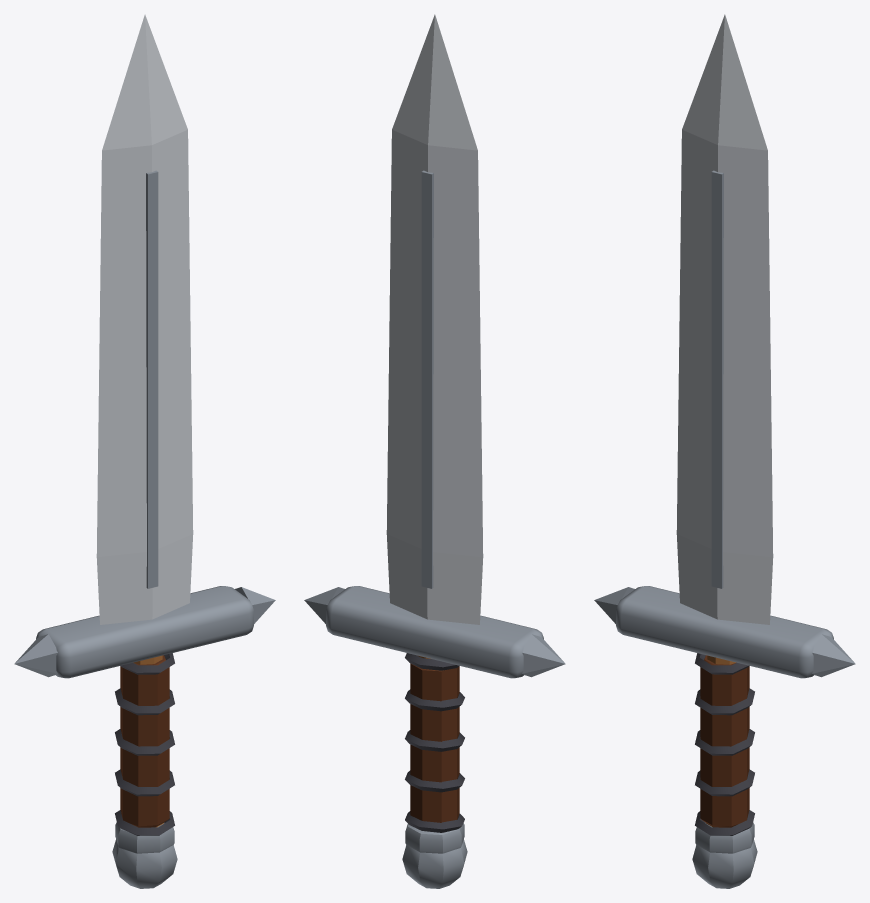
File: IronSword.fbx
3 views of the same model, side by side, from view 1: azimuth 30°, elevation 25°; view 2: azimuth 150°, elevation 25°; view 3: azimuth 330°, elevation 25° (orthographic).
Parts seen in each view (by area): view 1: IronSword; view 2: IronSword; view 3: IronSword.
Boxes of the visible parts, left/top/right/bottom form: IronSword: left=14, top=14, right=275, bottom=888; IronSword: left=304, top=14, right=565, bottom=888; IronSword: left=594, top=14, right=855, bottom=888.
Size of the model in its own units: 1.52 by 4.84 by 0.34.
Materials: 1 (1 with a texture image).
